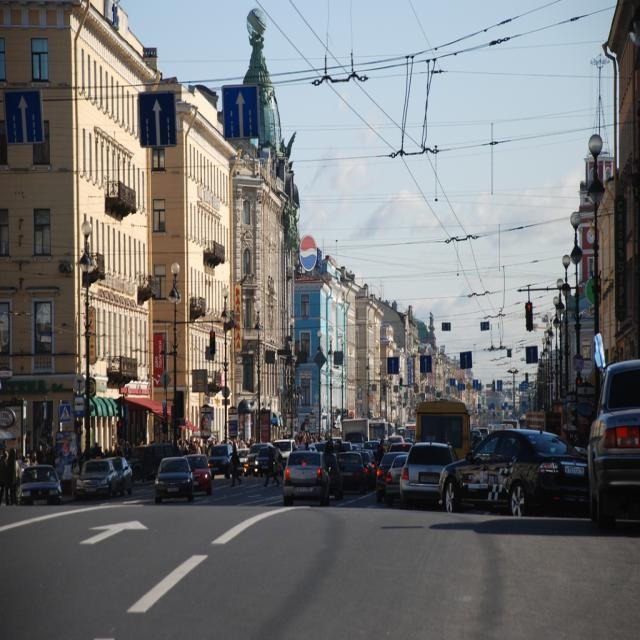road_sign: (3, 90, 43, 144), (138, 91, 176, 145), (222, 85, 258, 137)
traffic light: (525, 303, 534, 330), (209, 331, 215, 354)
